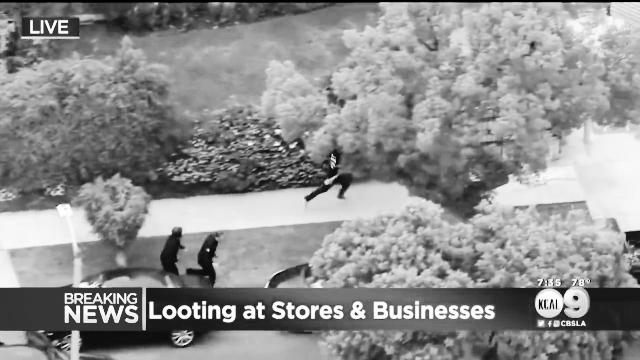berlari: (302, 146, 364, 206), (184, 225, 228, 293)
